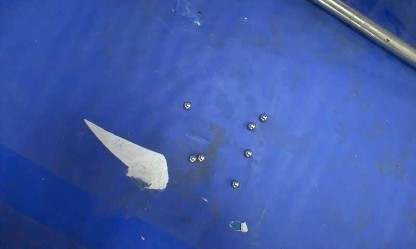ironball: (230, 179, 239, 188), (243, 149, 252, 158), (182, 101, 191, 109), (258, 113, 267, 121), (188, 154, 196, 162), (247, 122, 255, 130), (197, 153, 204, 162)
